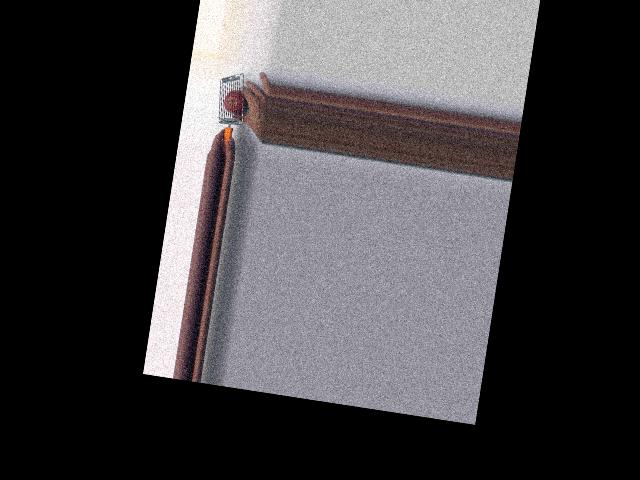tomato: (222, 89, 248, 116)
